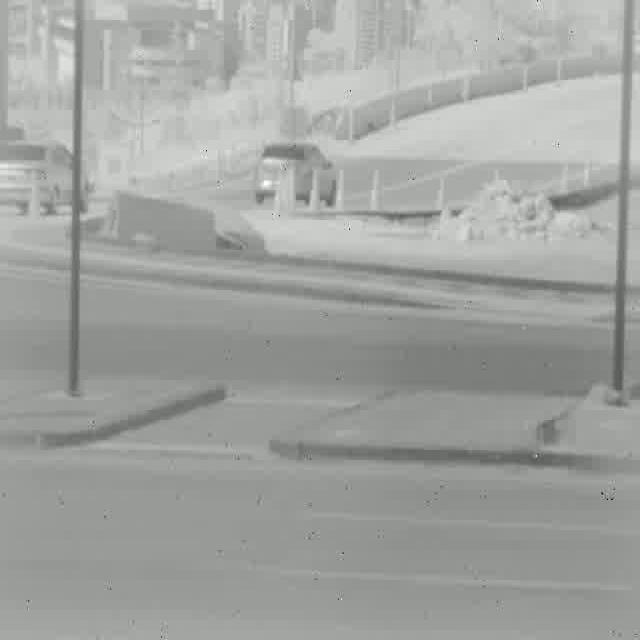Car: (0, 139, 89, 211), (255, 142, 339, 206)
